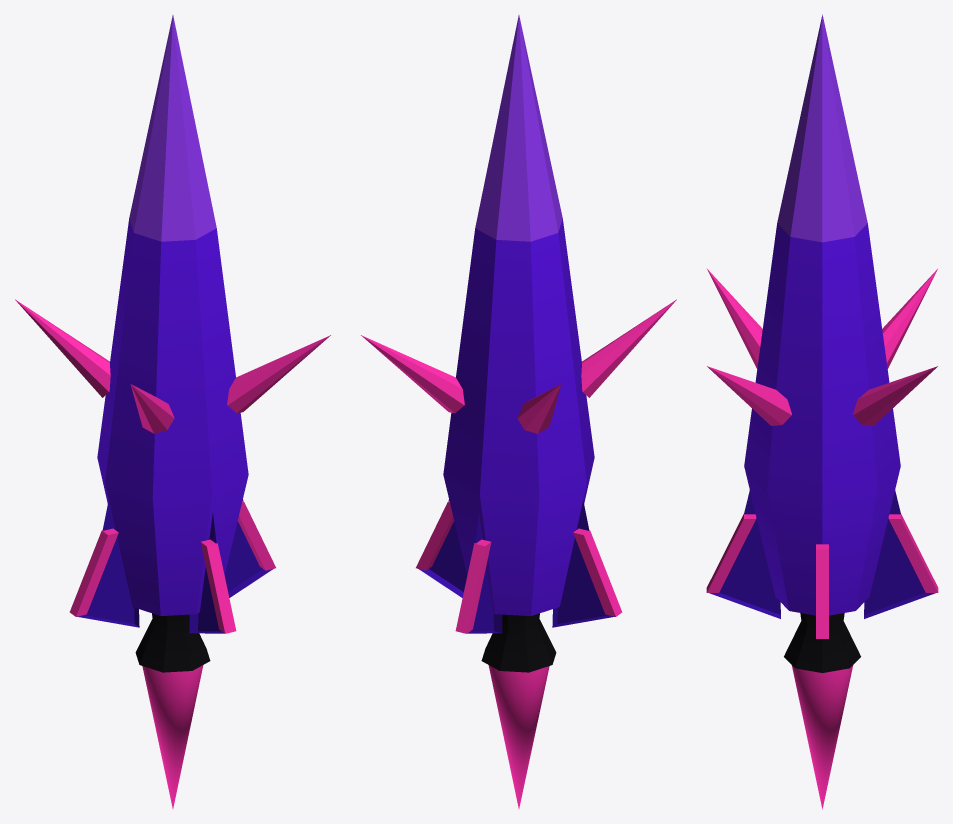
File: Rocket_33_AmethystShard.obj
The picture shows the model from 3 angles, left to right: view 1: azimuth 30°, elevation 25°; view 2: azimuth 150°, elevation 25°; view 3: azimuth 270°, elevation 25°; orthographic projection.
Parts seen in each view (by area): view 1: R33_Body, R33_Nose, R33_Flame_1, R33_Nozzle_1, R33_Fin_2, R33_Spike_4, R33_Spike_2, R33_Fin_4, R33_FinGlow_3, R33_FinGlow_2, R33_Spike_3, R33_Fin_3 (+1 smaller); view 2: R33_Body, R33_Nose, R33_Flame_1, R33_Nozzle_1, R33_Fin_2, R33_Spike_1, R33_Spike_3, R33_Fin_4, R33_FinGlow_1, R33_FinGlow_2, R33_Spike_2, R33_Fin_1 (+1 smaller); view 3: R33_Body, R33_Nose, R33_Flame_1, R33_Fin_1, R33_Fin_3, R33_Nozzle_1, R33_Spike_1, R33_Spike_4, R33_Spike_2, R33_Spike_3, R33_FinGlow_4, R33_FinGlow_1 (+1 smaller).
Boxes of the visible parts, x1,y1,x2,y2 form: R33_Body: (97, 218, 248, 615); R33_Nose: (129, 15, 216, 241); R33_Flame_1: (142, 665, 203, 808); R33_Nozzle_1: (135, 613, 210, 672); R33_Fin_2: (77, 501, 139, 627); R33_Spike_4: (227, 335, 330, 413); R33_Spike_2: (15, 299, 110, 397); R33_Fin_4: (224, 499, 272, 597); R33_FinGlow_3: (200, 539, 236, 633); R33_FinGlow_2: (69, 528, 118, 616); R33_Spike_3: (130, 384, 174, 433); R33_Fin_3: (189, 513, 224, 633); R33_Body: (443, 218, 594, 615); R33_Nose: (475, 15, 562, 241); R33_Flame_1: (488, 665, 549, 808); R33_Nozzle_1: (481, 613, 556, 672); R33_Fin_2: (552, 501, 614, 627); R33_Spike_1: (361, 335, 464, 413); R33_Spike_3: (581, 299, 676, 397); R33_Fin_4: (419, 499, 467, 597); R33_FinGlow_1: (455, 539, 491, 633); R33_FinGlow_2: (573, 528, 622, 616); R33_Spike_2: (517, 384, 561, 433); R33_Fin_1: (467, 513, 502, 633); R33_Body: (744, 223, 900, 615); R33_Nose: (777, 14, 867, 242); R33_Flame_1: (791, 665, 853, 809); R33_Fin_1: (864, 490, 935, 618); R33_Fin_3: (709, 490, 780, 618); R33_Nozzle_1: (784, 613, 860, 672); R33_Spike_1: (853, 366, 937, 425); R33_Spike_4: (707, 366, 791, 425); R33_Spike_2: (882, 269, 937, 368); R33_Spike_3: (707, 269, 762, 368); R33_FinGlow_4: (816, 544, 828, 638); R33_FinGlow_1: (888, 514, 938, 592).
Size of the model in its own units: 2.82 by 10.65 by 2.82.
